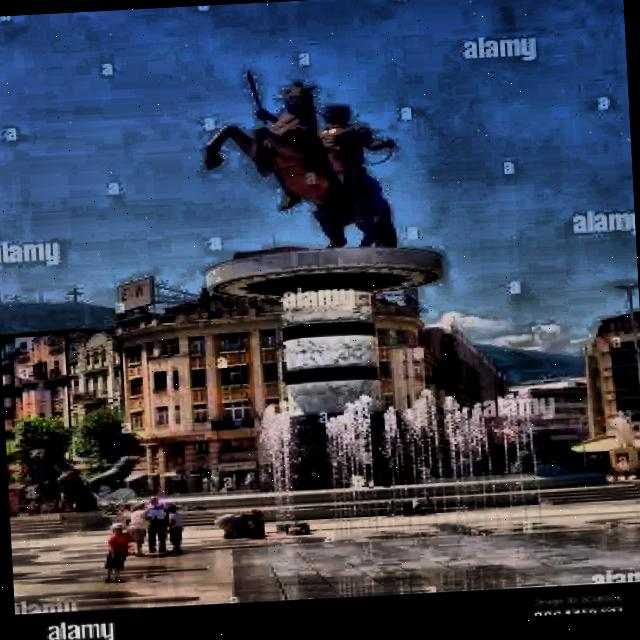alexander the great monument: (170, 58, 462, 519)
